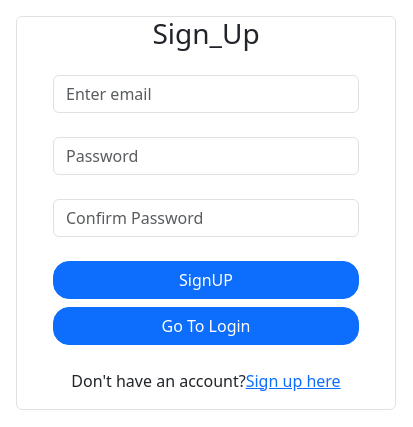
switches mode from login to signup
# Click the button to switch modes
Click the button "Go To Login" at (206, 326), box left=53, top=307, right=359, bottom=345
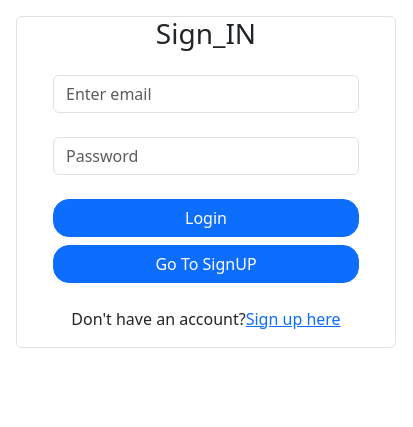
Now the button "Login" is shown, box left=53, top=199, right=359, bottom=237
